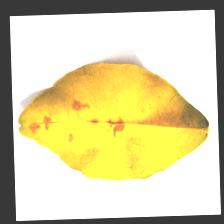canker: (24, 95, 131, 146)
